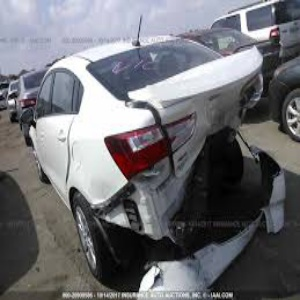bumper: (121, 196, 233, 292)
